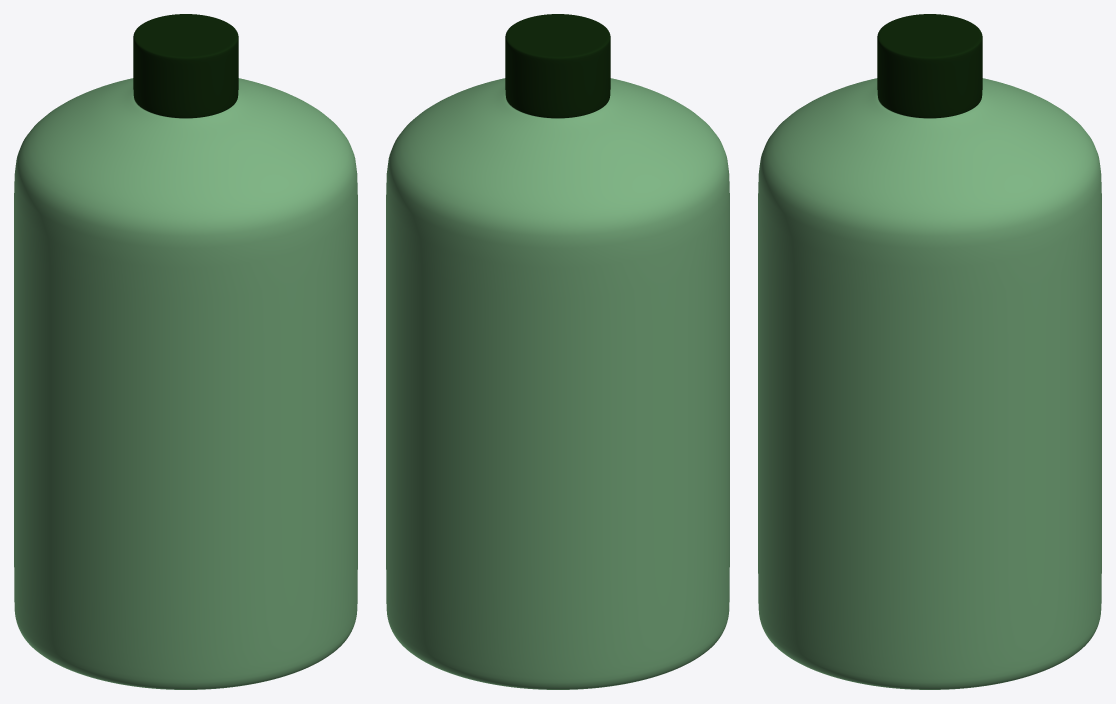
File: uploads_files_3279091_Plastic_Bottle_8.fbx
3 views of the same model, side by side, from view 1: azimuth 30°, elevation 25°; view 2: azimuth 150°, elevation 25°; view 3: azimuth 270°, elevation 25° (orthographic).
Visible parts, largest first — view 1: Bottle_8; view 2: Bottle_8; view 3: Bottle_8.
Boxes of the visible parts, left/top/right/bottom form: Bottle_8: left=14, top=14, right=357, bottom=689; Bottle_8: left=386, top=14, right=729, bottom=689; Bottle_8: left=758, top=14, right=1101, bottom=689.
Size of the model in its own units: 199 by 373 by 199.
Materials: 2 (2 with a texture image).
